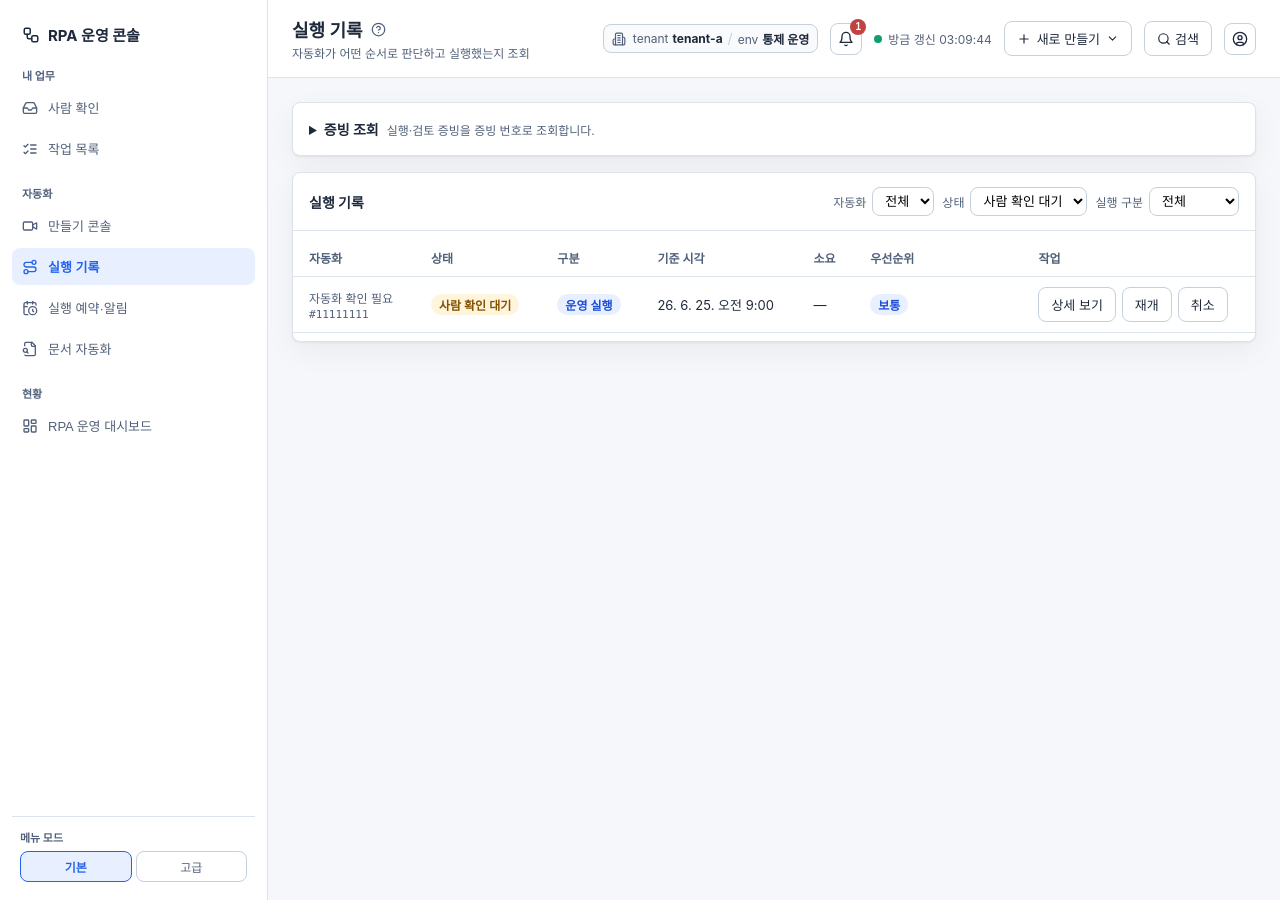
Scenario: RunTrace suspended-run resume action › operator can request resume from the trace table
Click the button "재개" at x=1147, y=304, box [1122,287,1172,322]
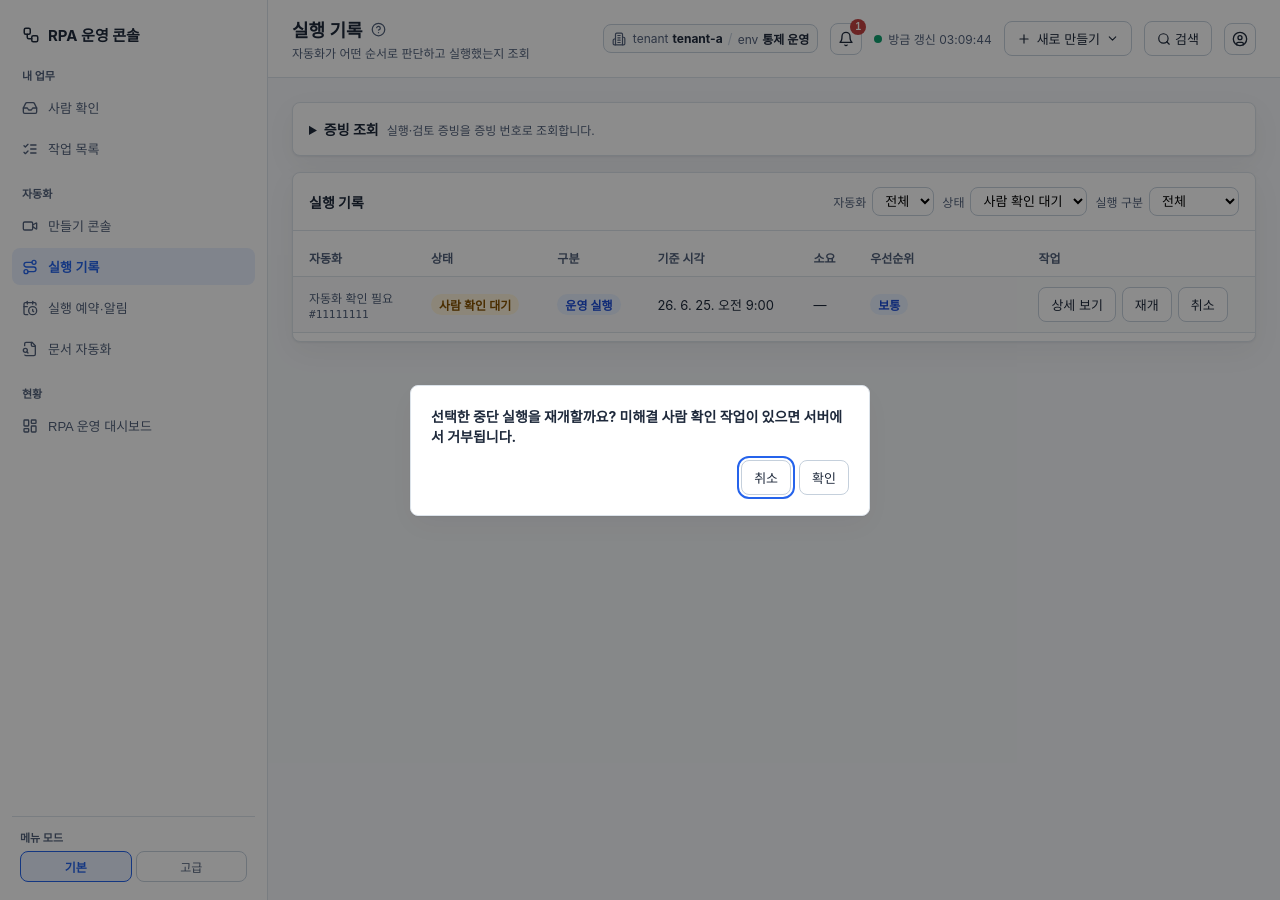
Expected: the button "확인" is shown
Click the button "확인" at x=824, y=477, box [799,460,849,494]
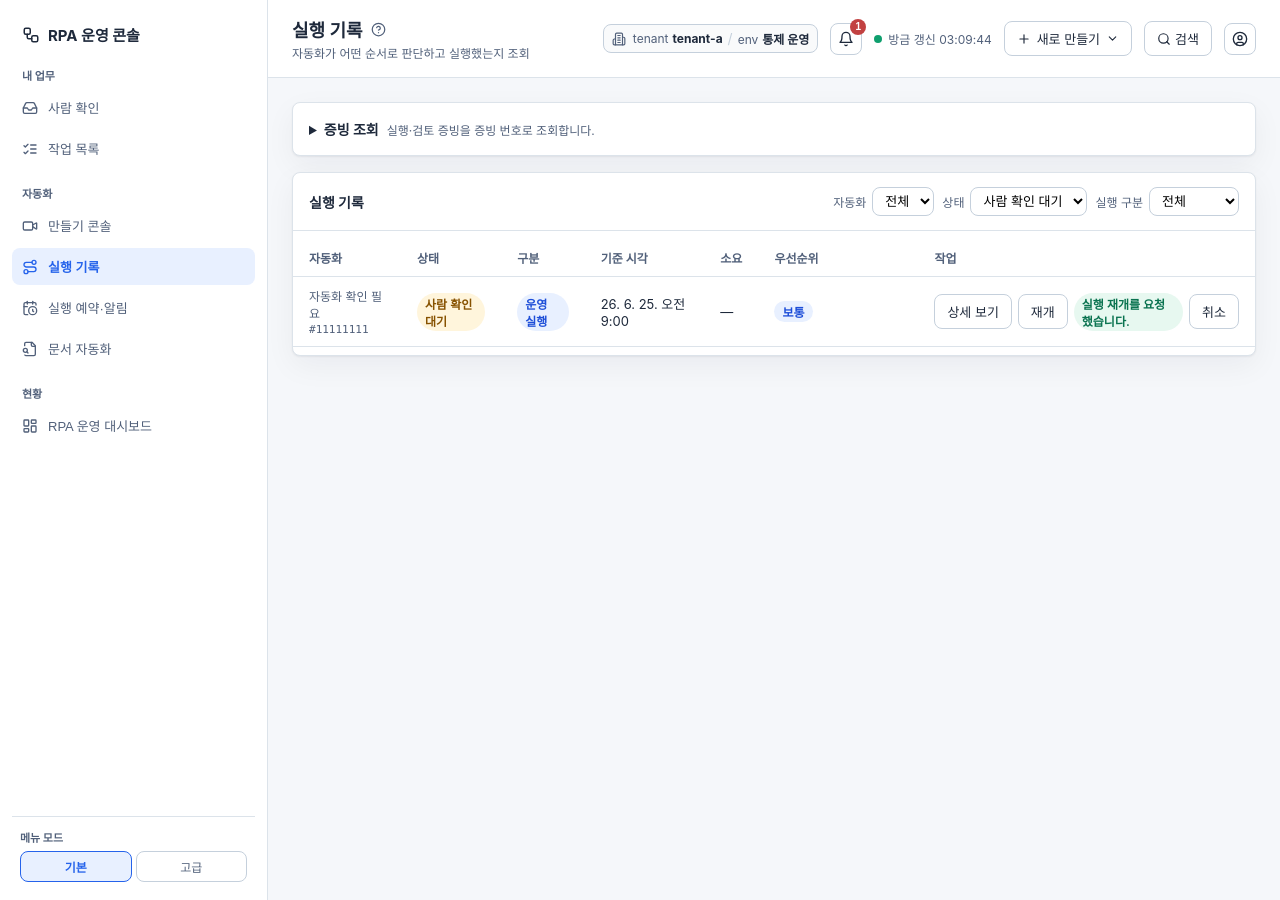
Expected: the text "실행 재개를 요청했습니다." is shown, [1074,292,1183,330]
